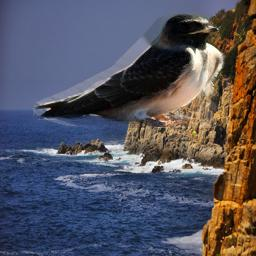Swallow: (31, 13, 226, 128)
